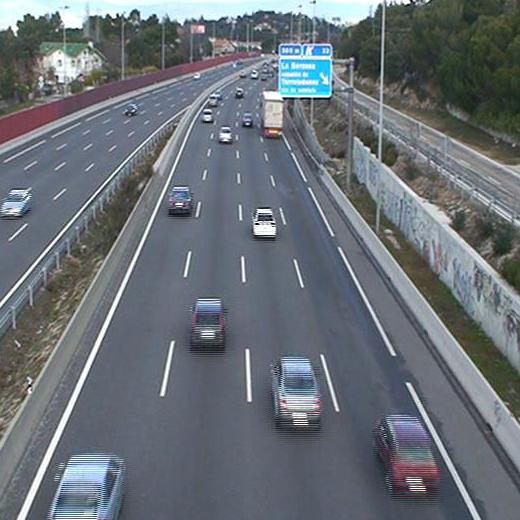car: (374, 415, 440, 492), (47, 456, 123, 520), (268, 356, 322, 427), (189, 298, 229, 348), (251, 208, 278, 238), (168, 187, 194, 212), (220, 127, 233, 141), (201, 109, 213, 121), (242, 113, 255, 124)
truck: (259, 90, 284, 138)
